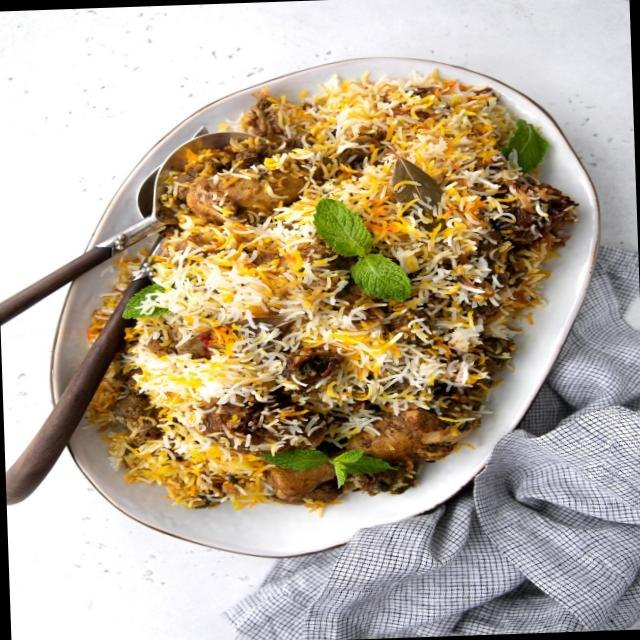Biryani: (35, 47, 567, 554)
